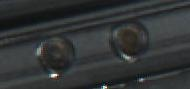joints: (33, 34, 79, 77), (112, 19, 149, 62)
